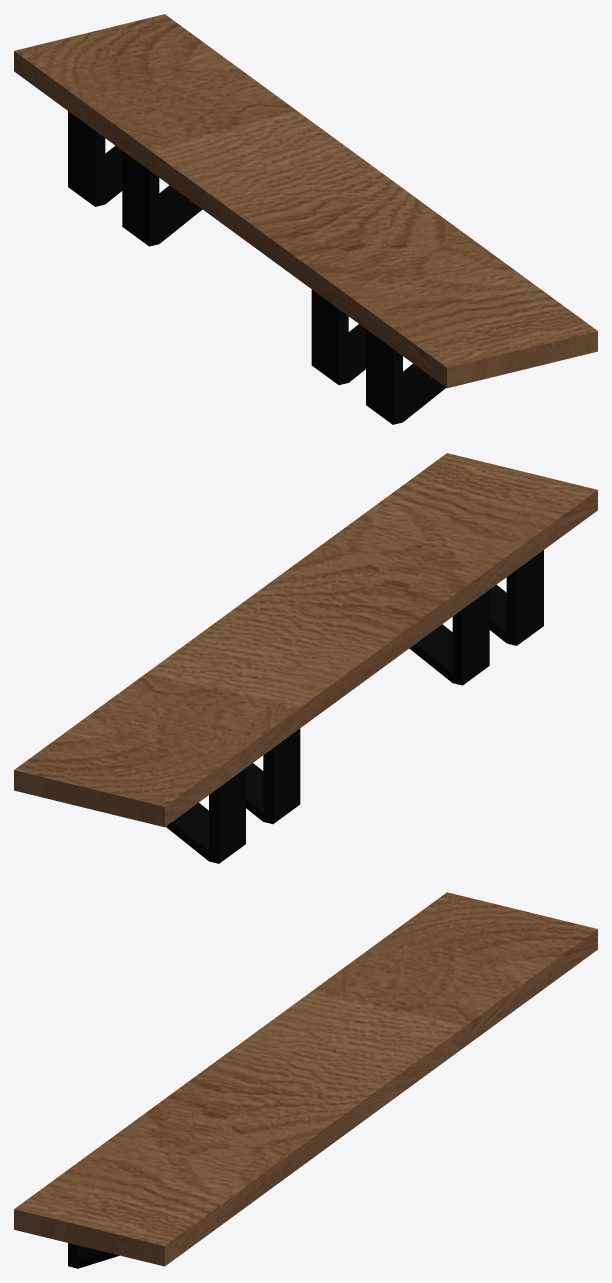
The model's file is étagère 3.fbx.
3 views of the same model, one above another, from view 1: azimuth 30°, elevation 25°; view 2: azimuth 150°, elevation 25°; view 3: azimuth 330°, elevation 25° (orthographic).
Visible parts, largest first — view 1: Cube.078; view 2: Cube.078; view 3: Cube.078.
Part boxes in pixels (x1=…): Cube.078: x1=14, y1=14, x2=597, y2=424; Cube.078: x1=14, y1=453, x2=597, y2=863; Cube.078: x1=14, y1=892, x2=597, y2=1268.
Bounding box in the file's own units: 40.24 × 24.62 × 200.
2 materials, 1 textured.
